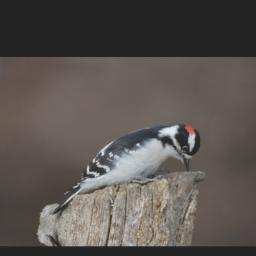Woodpecker: (48, 109, 206, 231)
